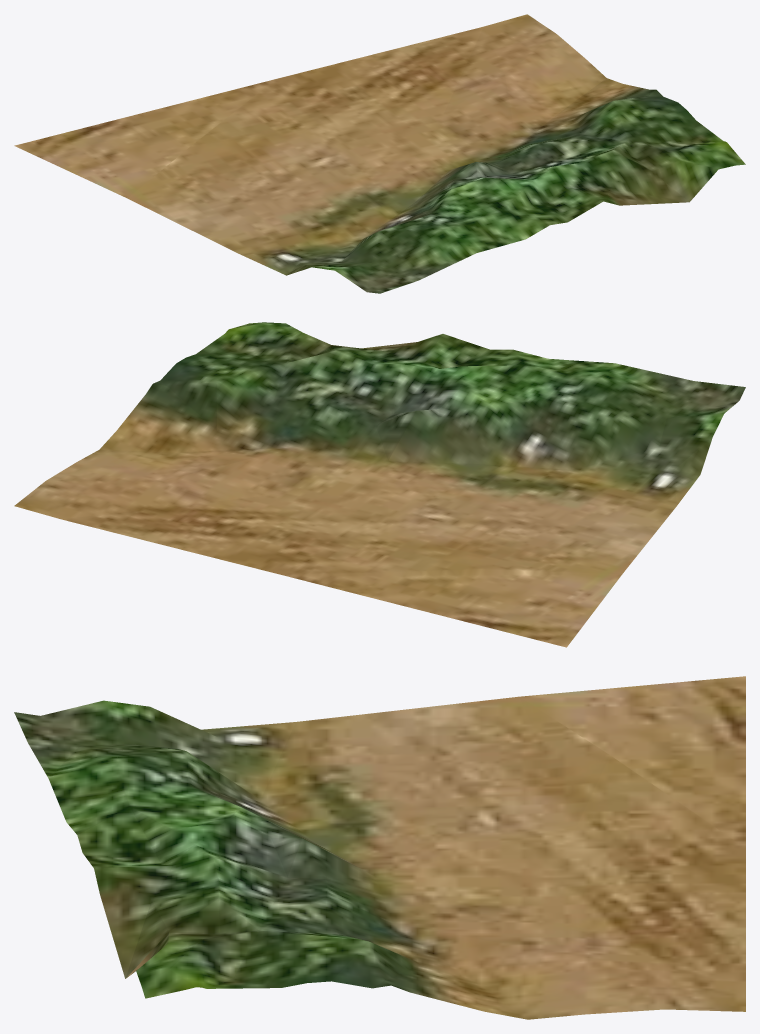
Rendered from Tile_+001_+000_L21_0001110.glb.
3 views of the same model, one above another, from view 1: azimuth 30°, elevation 25°; view 2: azimuth 150°, elevation 25°; view 3: azimuth 270°, elevation 25° (orthographic). The views are drawn at different scales.
Visible parts, largest first — view 1: rtc; view 2: rtc; view 3: rtc.
Part boxes in pixels (x1,y1,x2,y2): rtc: [14, 14, 745, 293]; rtc: [14, 322, 745, 647]; rtc: [14, 676, 745, 1019].
Size of the model in its own units: 3.38 by 0.2677 by 3.03.
Materials: 1 (1 with a texture image).
